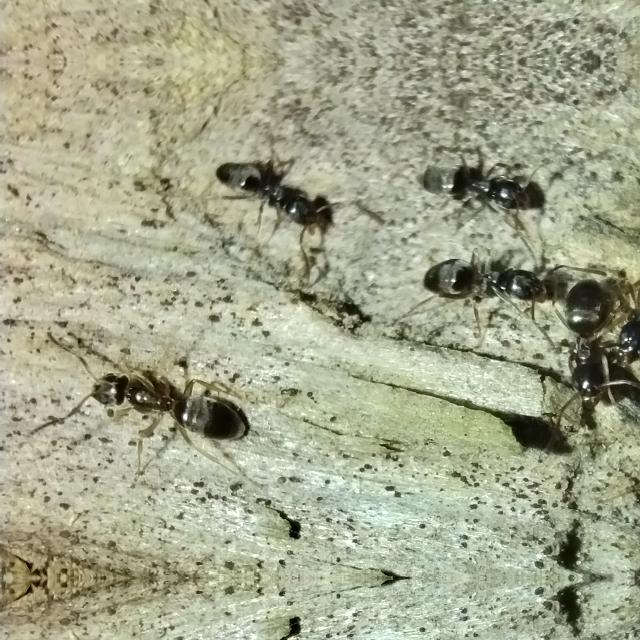Tapinoma: (62, 349, 262, 461), (205, 145, 342, 243), (411, 242, 563, 324), (536, 274, 624, 414), (413, 148, 551, 226), (606, 272, 640, 368)
